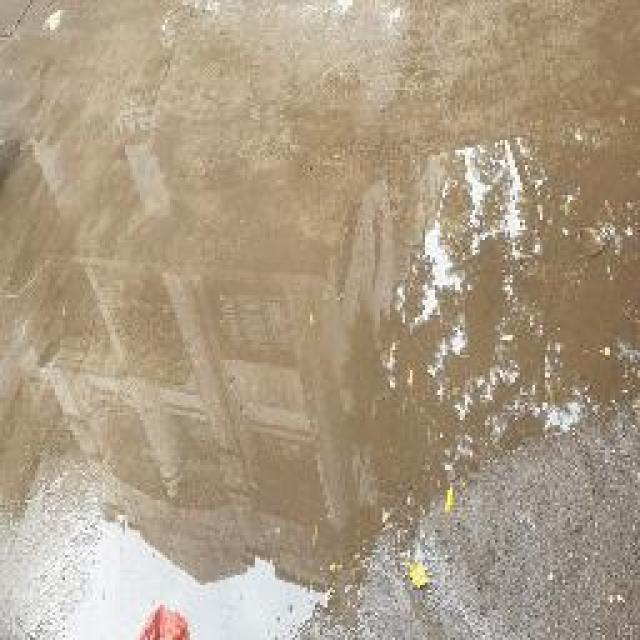puddle: (1, 67, 640, 640)
